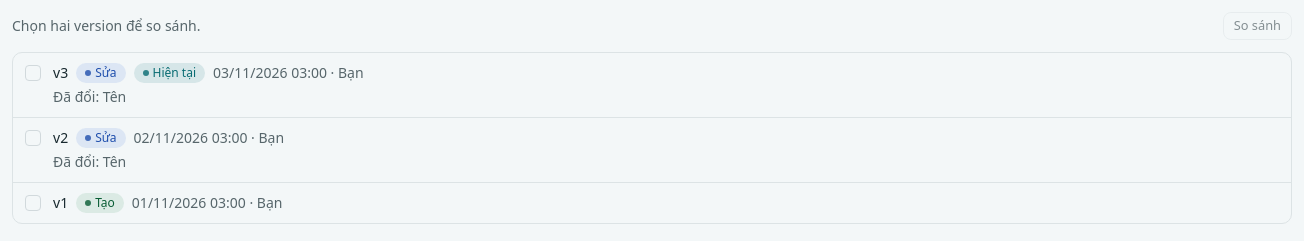
Test: thirdChoiceDropsTheFirstChosen
Click the checkbox named "Chọn v2 để so sánh".
click(33, 138)  # box [25, 130, 41, 146]
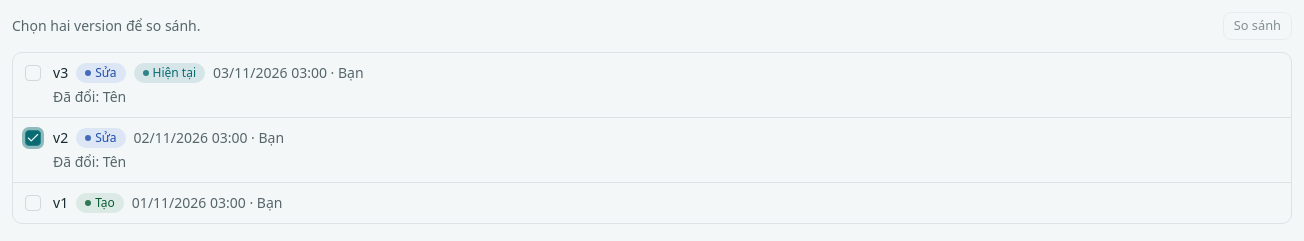
Click the checkbox named "Chọn v3 để so sánh".
click(33, 73)  # box [25, 65, 41, 81]
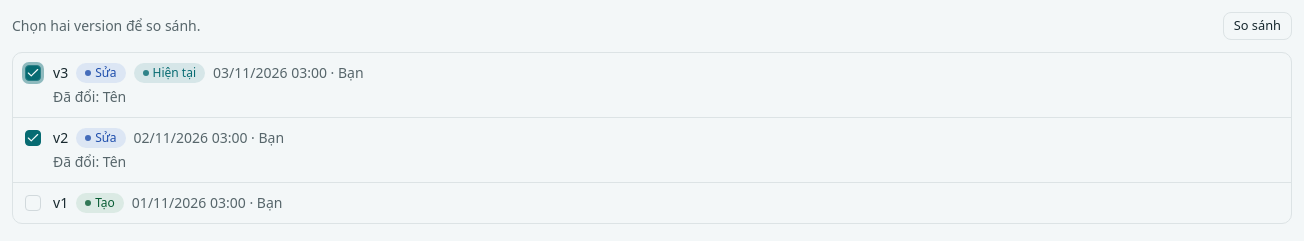
Click the checkbox named "Chọn v1 để so sánh".
click(33, 203)  # box [25, 195, 41, 211]
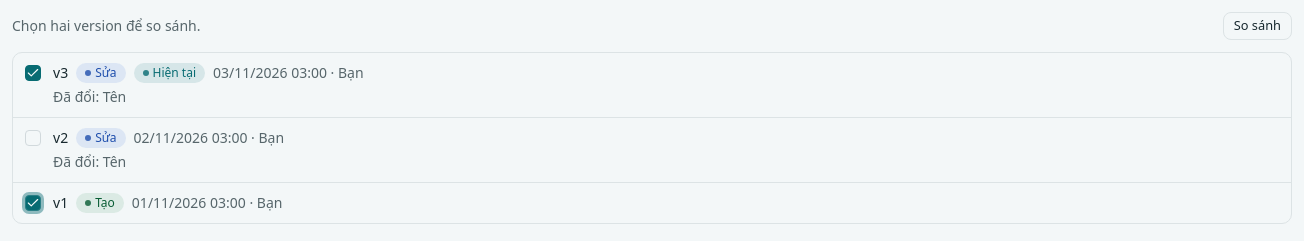
Expected: the checkbox named "Chọn v2 để so sánh" is not checked, [25, 130, 41, 146]
Expected: the checkbox named "Chọn v3 để so sánh" is checked, [25, 65, 41, 81]
Expected: the checkbox named "Chọn v1 để so sánh" is checked, [25, 195, 41, 211]
